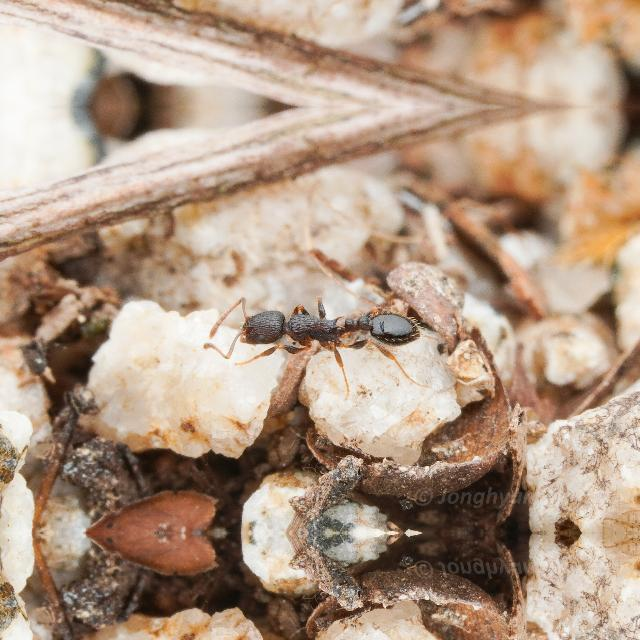Temnothorax: (203, 276, 455, 370)
